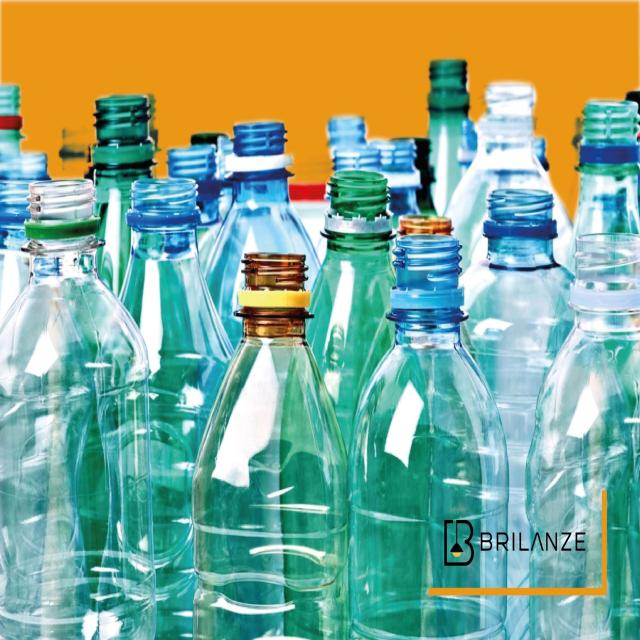no_cap: (232, 241, 312, 342), (388, 230, 465, 322), (24, 177, 105, 261), (94, 86, 159, 183), (314, 156, 386, 242), (124, 173, 204, 250), (573, 94, 640, 182), (573, 238, 640, 323), (481, 183, 552, 261), (232, 119, 286, 186), (423, 48, 471, 115), (172, 147, 219, 201), (476, 112, 541, 150), (0, 161, 32, 231), (0, 82, 30, 150), (482, 77, 536, 113), (380, 137, 416, 186), (326, 112, 364, 149), (334, 144, 379, 170)
